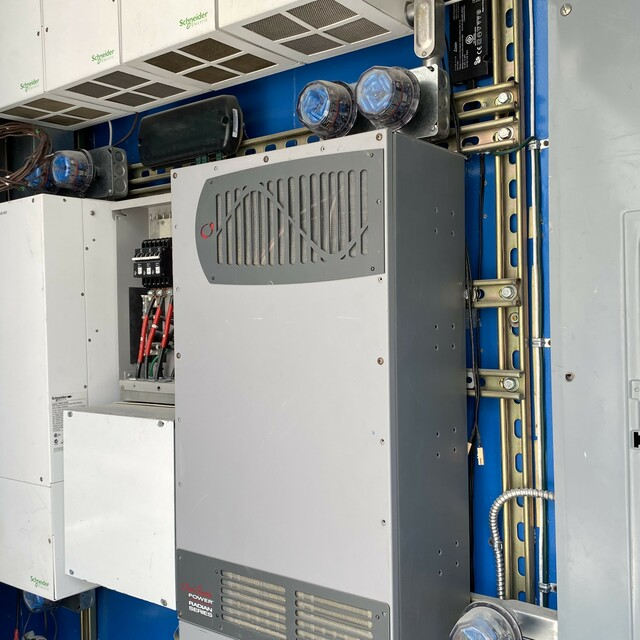inverter: (150, 122, 473, 630)
